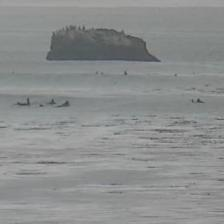surfer: (40, 98, 56, 106), (16, 98, 31, 106), (57, 100, 70, 108), (190, 98, 204, 104), (94, 71, 104, 74), (123, 70, 127, 76), (173, 74, 177, 78)
